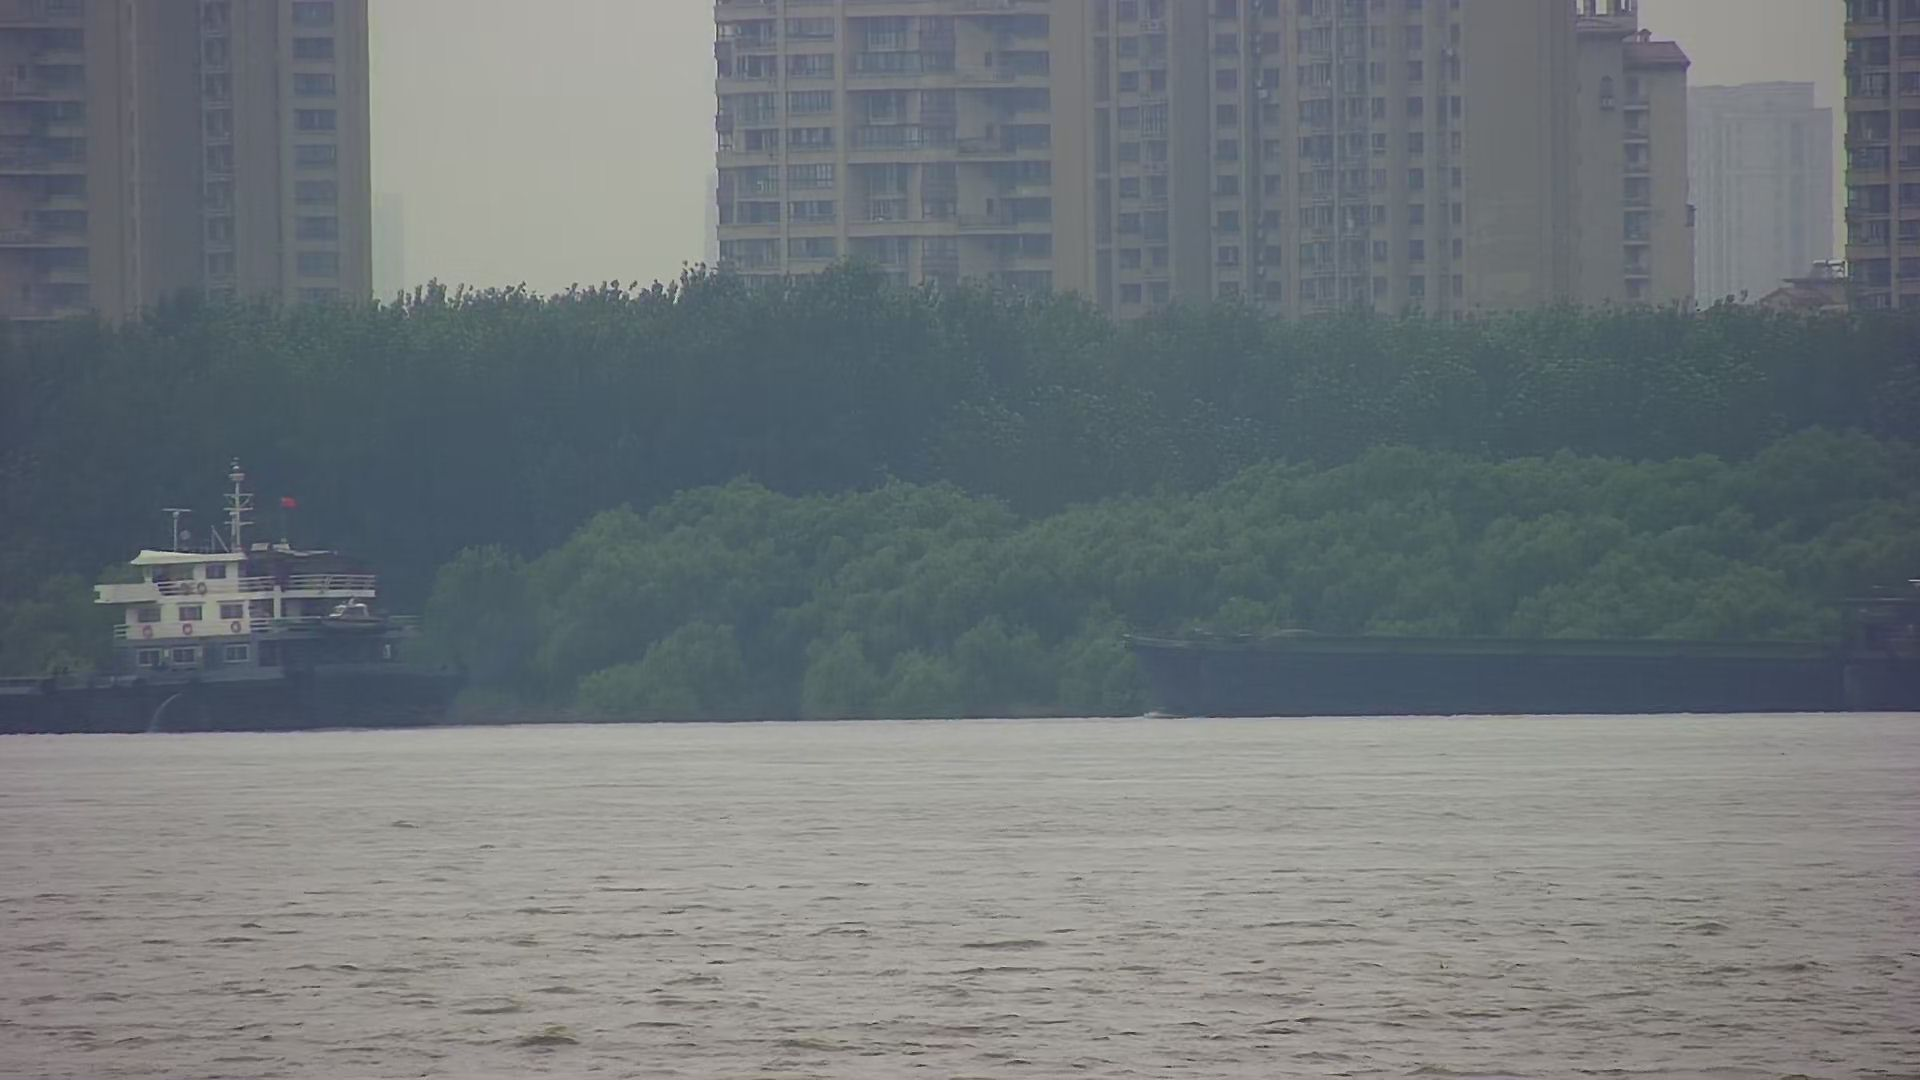ship: (4, 454, 469, 732), (1126, 582, 1920, 717)
